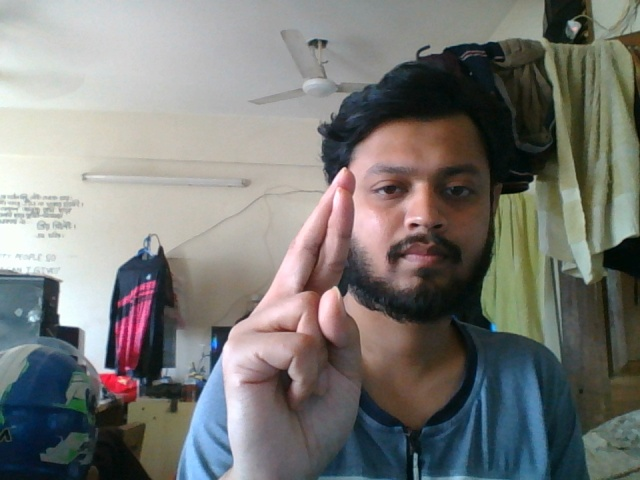r: (221, 162, 369, 480)
